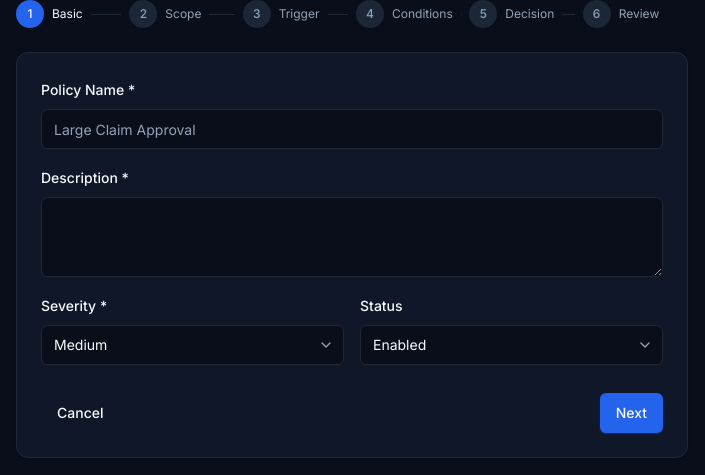
Scenario: PolicyBuilder › advances past step 1 once name and description are provided
Type "Block PHI export" into the field labelled "Policy Name *" at (352, 129), box [41,109,663,149]
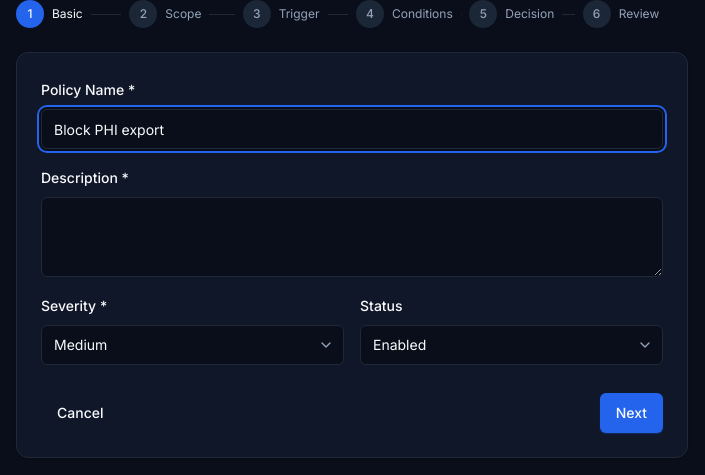
Type "Stop PHI leaving the org" into the text box labelled "Description *" at (352, 237), box [41,197,663,277]
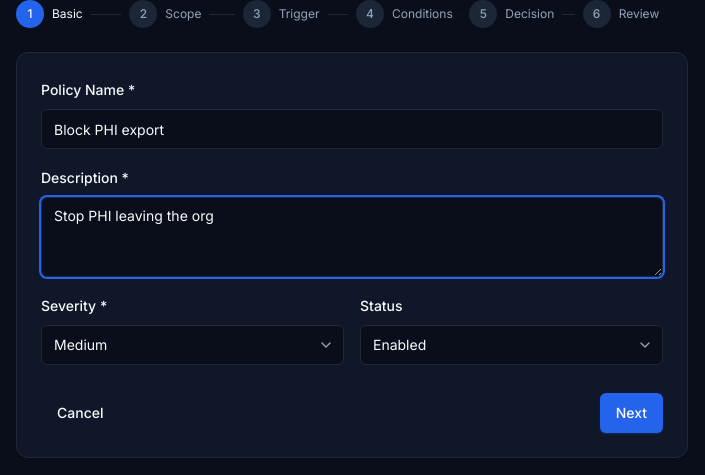
Click the button "Next" at (631, 413), box [600,393,663,433]
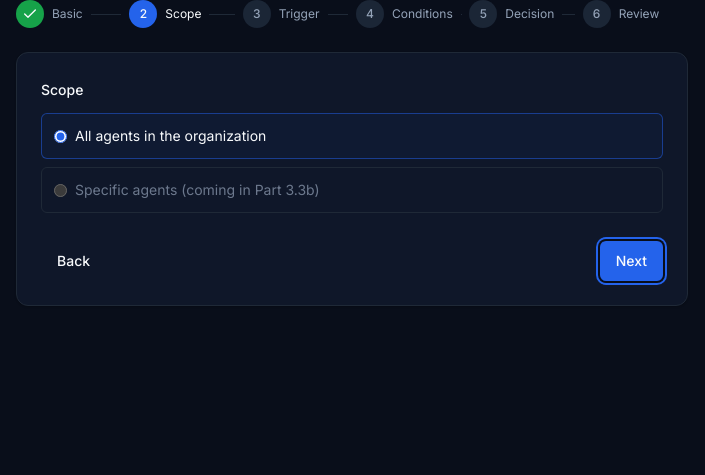
expect the text "All agents in the organization" is shown: met, box [41,113,663,159]
